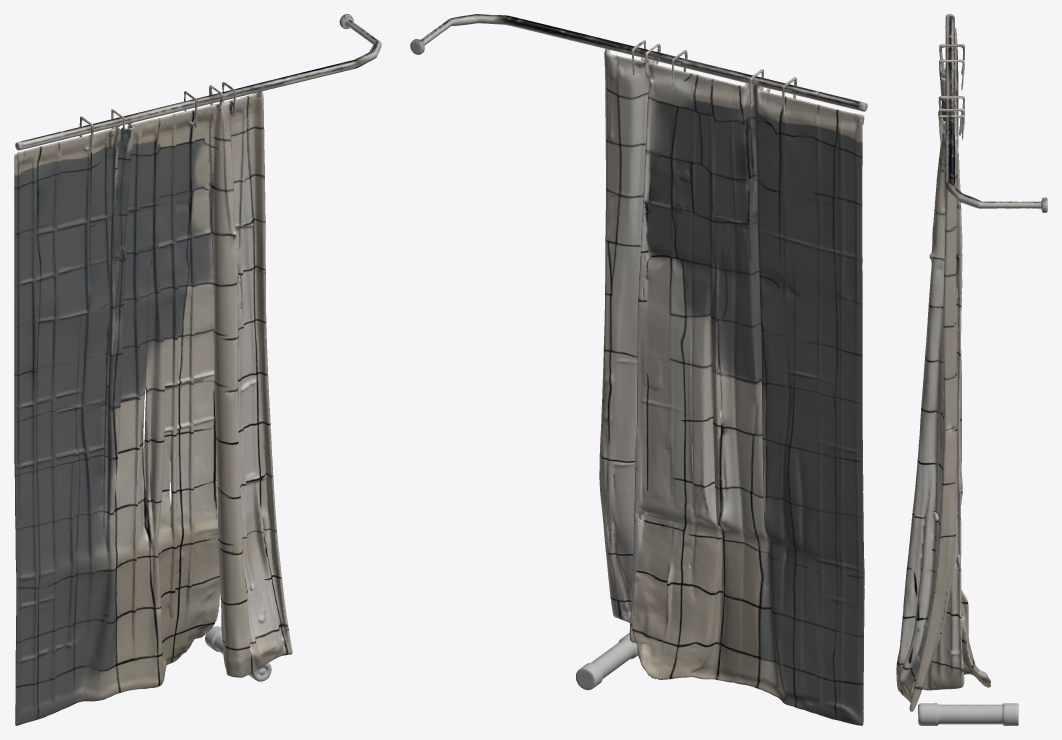
File: shower_curtain_3d_model.obj
The picture shows the model from 3 angles, left to right: view 1: azimuth 30°, elevation 25°; view 2: azimuth 150°, elevation 25°; view 3: azimuth 270°, elevation 25°; orthographic projection. The views are drawn at different scales.
Visible parts, largest first — view 1: tripo_node_8709f3f9-c53b-4fe3-b019-bf88bc7d82c0; view 2: tripo_node_8709f3f9-c53b-4fe3-b019-bf88bc7d82c0; view 3: tripo_node_8709f3f9-c53b-4fe3-b019-bf88bc7d82c0.
Part boxes in pixels (box(x1,y1,x2,y2)): tripo_node_8709f3f9-c53b-4fe3-b019-bf88bc7d82c0: box(14, 14, 381, 725); tripo_node_8709f3f9-c53b-4fe3-b019-bf88bc7d82c0: box(410, 14, 867, 725); tripo_node_8709f3f9-c53b-4fe3-b019-bf88bc7d82c0: box(896, 14, 1047, 725).
Size of the model in its own units: 0.6786 by 1 by 0.228.
1 material, 1 textured.
